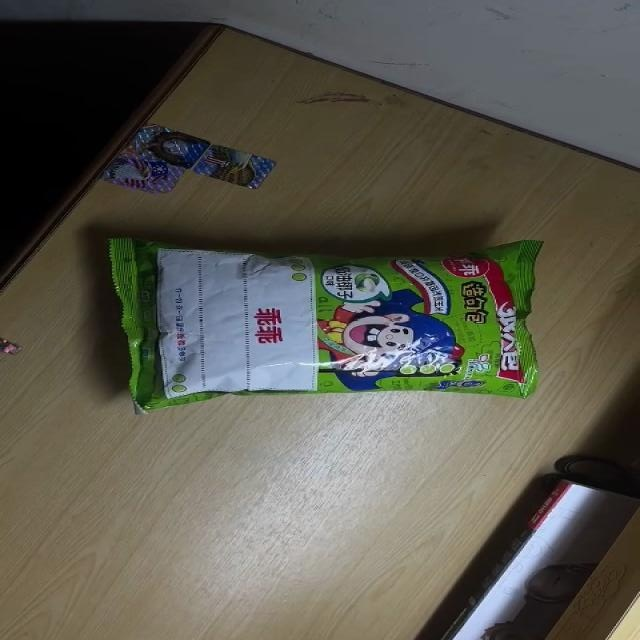Good-Luck: (104, 238, 544, 415)
